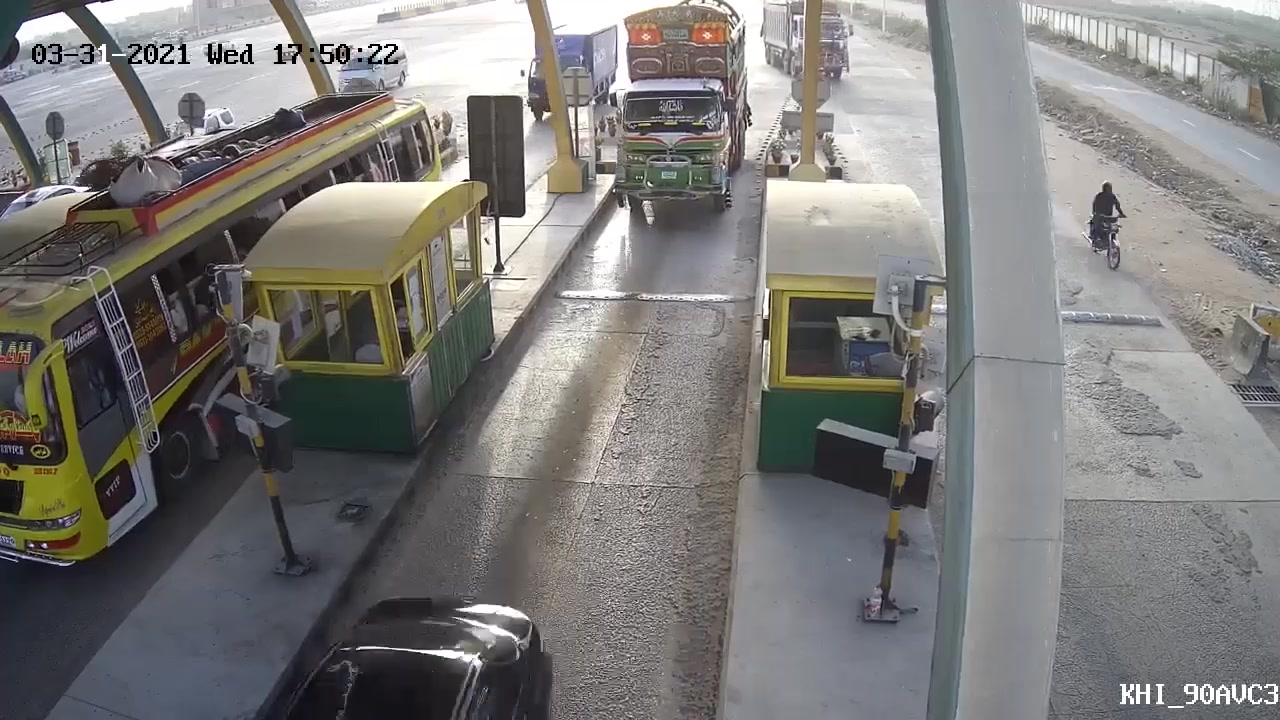F5: (603, 2, 757, 215)
